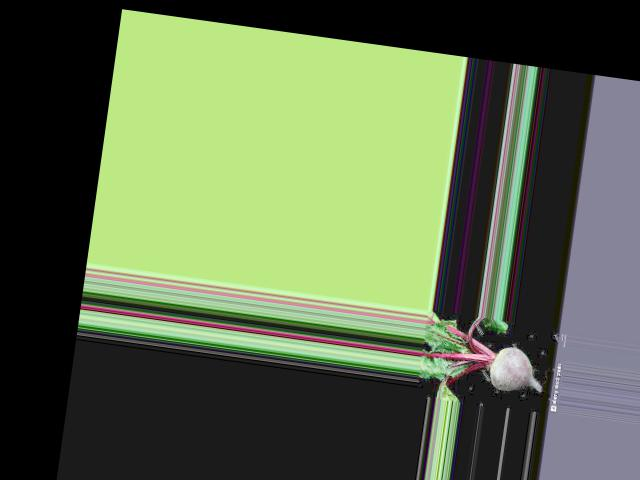beet: (416, 309, 550, 412)
